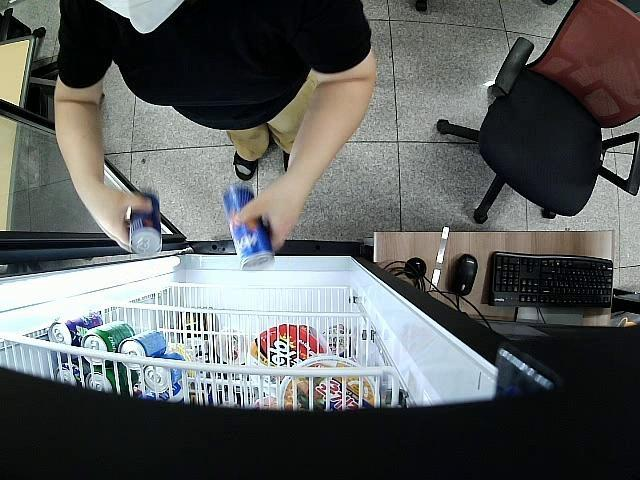16_hot6: (222, 186, 276, 270), (126, 193, 164, 261)
